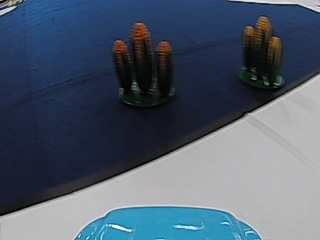corn: (112, 24, 176, 109), (238, 16, 285, 92)
